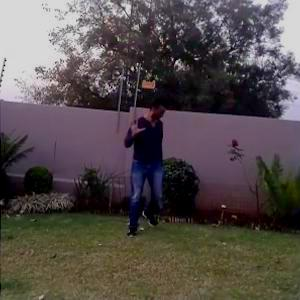follow_hand: (126, 111, 147, 138)
